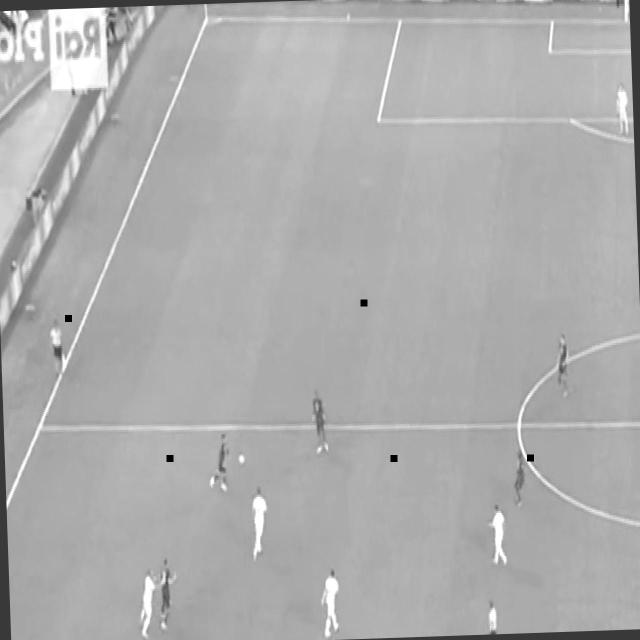ball: (238, 451, 245, 465)
player-white: (155, 554, 181, 630), (206, 426, 233, 494), (137, 564, 161, 640), (249, 483, 271, 565), (318, 567, 342, 639), (486, 502, 510, 570), (310, 385, 330, 456), (554, 331, 572, 401), (512, 440, 528, 512), (48, 316, 66, 380), (614, 80, 632, 140), (484, 597, 502, 635)
